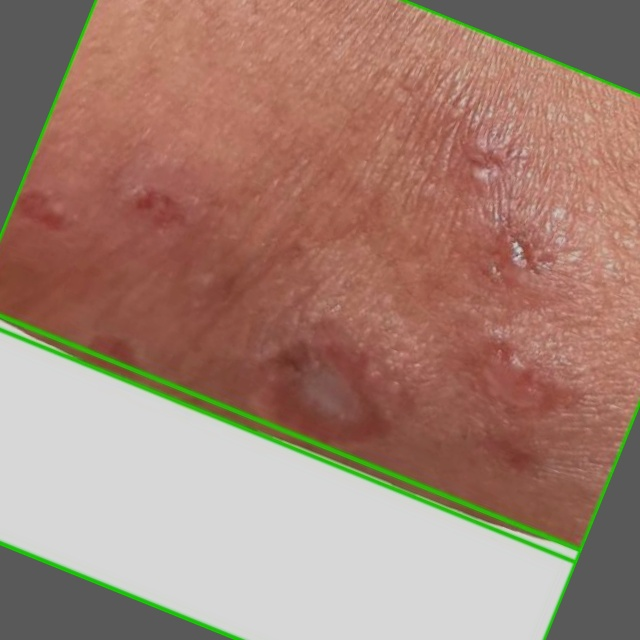Contact Dermatitis: (0, 0, 639, 562), (0, 317, 580, 639)
